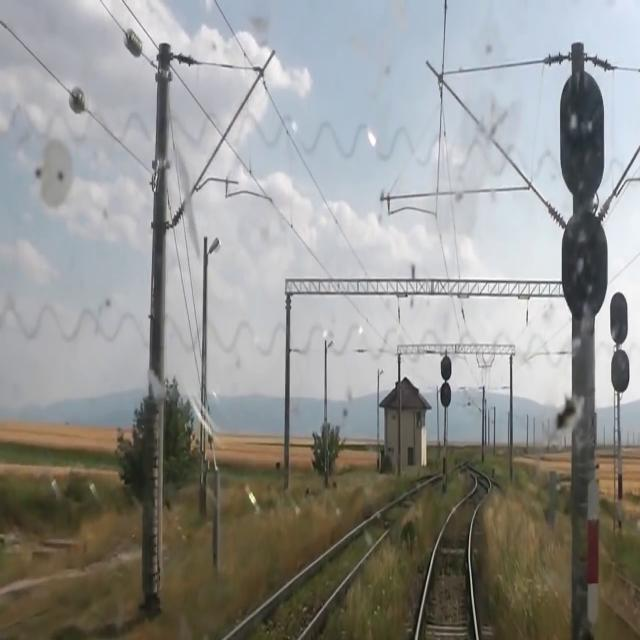rail-track: (232, 494, 416, 639), (420, 487, 483, 639), (506, 498, 568, 559), (601, 568, 640, 628)
